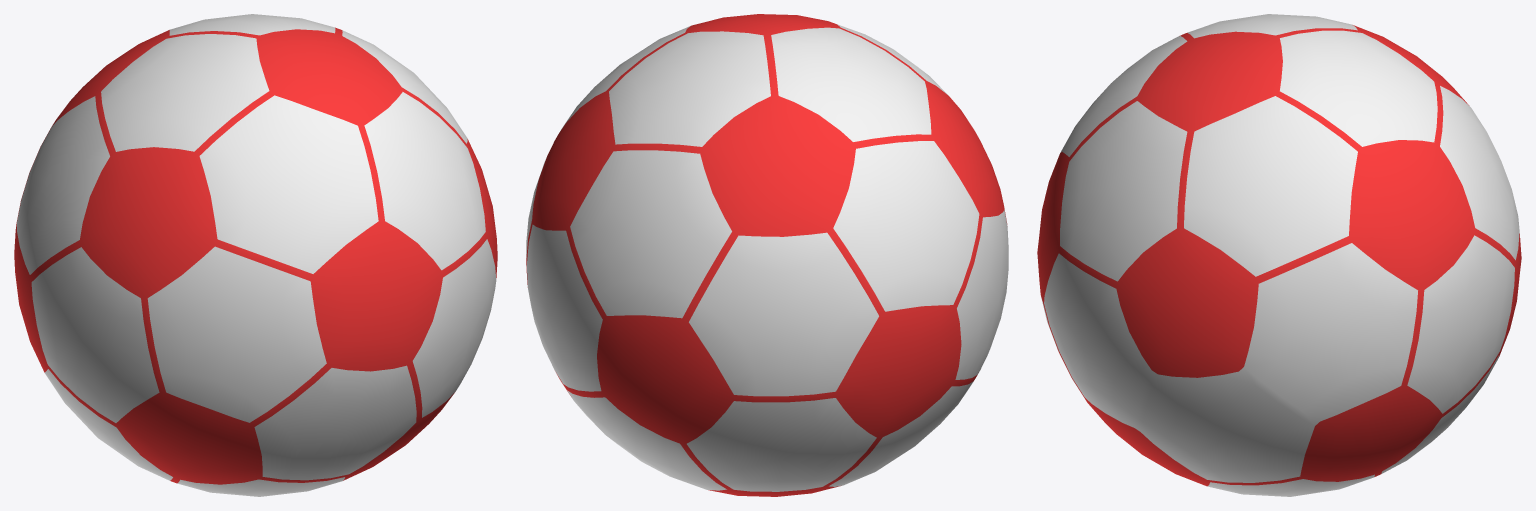
The model's file is Soccerball_Red.fbx.
3 views of the same model, side by side, from view 1: azimuth 30°, elevation 25°; view 2: azimuth 150°, elevation 25°; view 3: azimuth 270°, elevation 25° (orthographic).
Visible parts, largest first — view 1: Soccerball_Red; view 2: Soccerball_Red; view 3: Soccerball_Red.
Part boxes in pixels (bbox=[...]): Soccerball_Red: bbox=[14, 14, 497, 496]; Soccerball_Red: bbox=[526, 14, 1008, 496]; Soccerball_Red: bbox=[1037, 14, 1521, 496].
Size of the model in its own units: 92.54 by 92.53 by 92.65.
